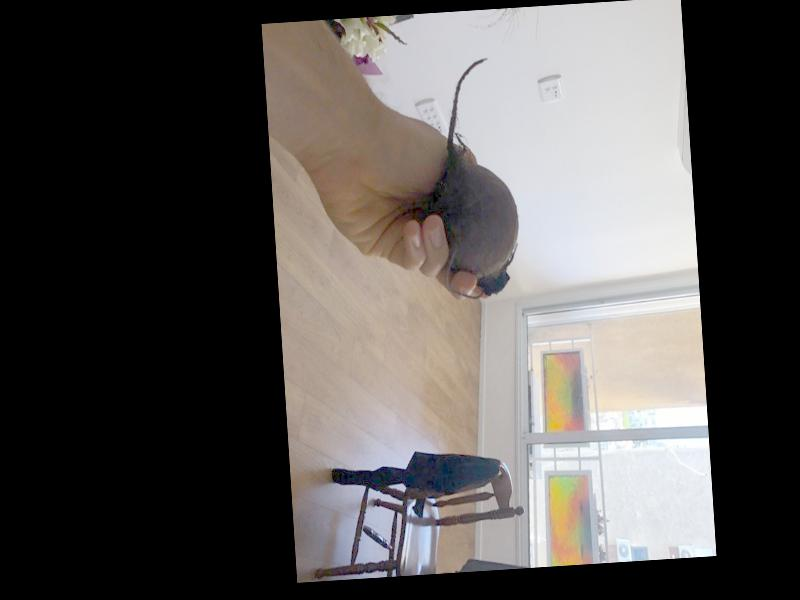Beet: (428, 58, 522, 302)
